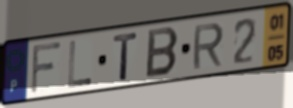2: (231, 17, 258, 67)
B: (144, 25, 181, 80)
F: (29, 39, 64, 97)
L: (66, 39, 93, 90)
R: (190, 21, 226, 72)
T: (111, 30, 139, 82)
